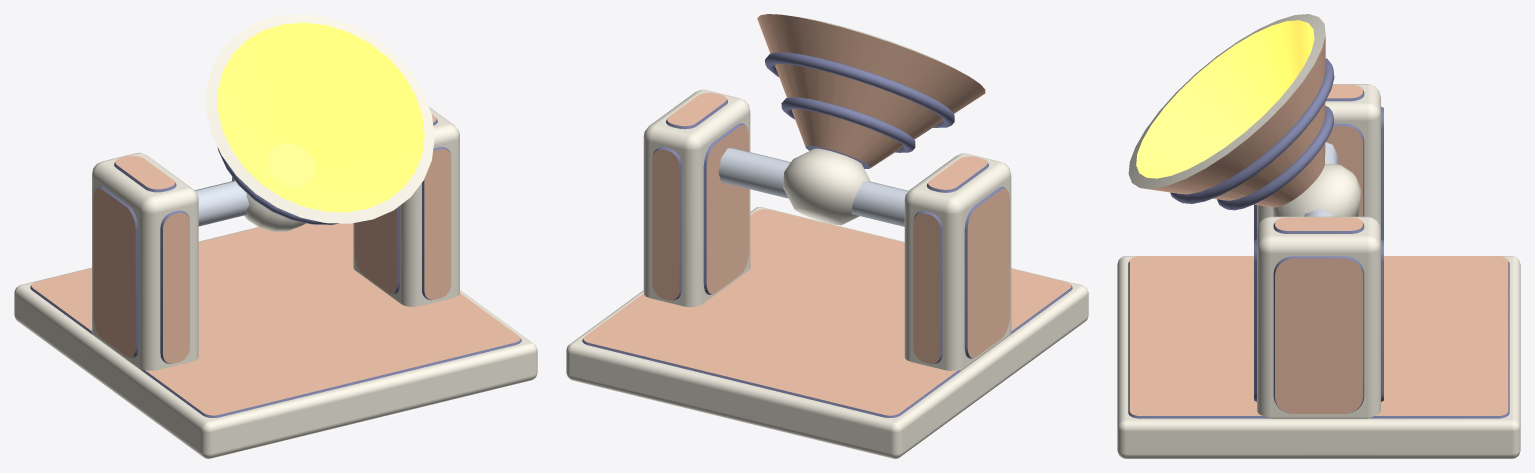
File: R4X_DeployableAmplifier.fbx
3 views of the same model, side by side, from view 1: azimuth 30°, elevation 25°; view 2: azimuth 150°, elevation 25°; view 3: azimuth 270°, elevation 25° (orthographic). The views are drawn at different scales.
Visible parts, largest first — view 1: R4X_DeployableAmplifier_Body, R4X_DeployableAmplifier_Horn; view 2: R4X_DeployableAmplifier_Body, R4X_DeployableAmplifier_Horn; view 3: R4X_DeployableAmplifier_Body, R4X_DeployableAmplifier_Horn.
Boxes of the visible parts, box(x1,y1,x2,y2) form: R4X_DeployableAmplifier_Body: box(14, 107, 537, 458); R4X_DeployableAmplifier_Horn: box(206, 14, 434, 231); R4X_DeployableAmplifier_Body: box(566, 89, 1088, 458); R4X_DeployableAmplifier_Horn: box(757, 14, 985, 225); R4X_DeployableAmplifier_Body: box(1117, 84, 1520, 458); R4X_DeployableAmplifier_Horn: box(1128, 14, 1361, 216).
Bounding box in the file's own units: 0.514 × 0.4878 × 0.514.
